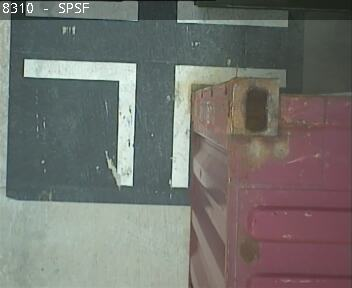groundmarker_1: (23, 57, 286, 187)
